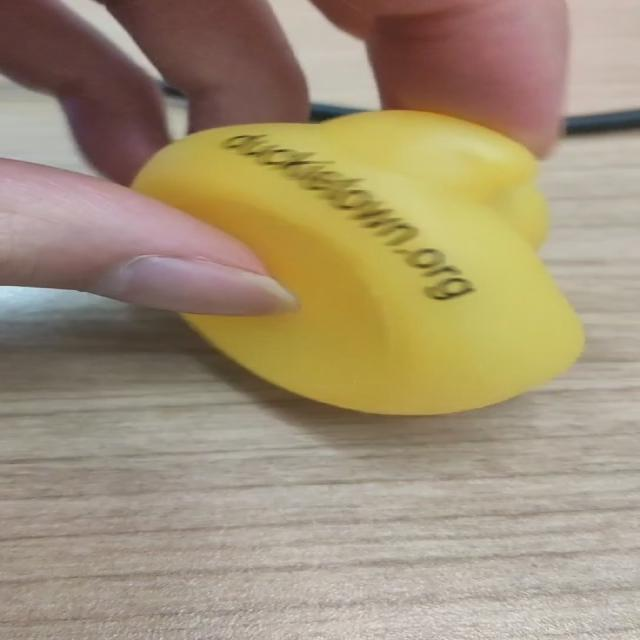rubber-duck: (132, 110, 582, 412)
